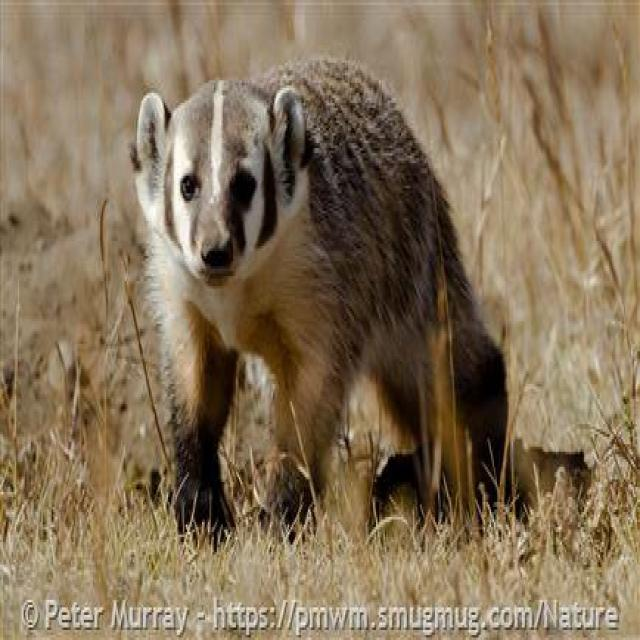Badger: (135, 51, 539, 538)
